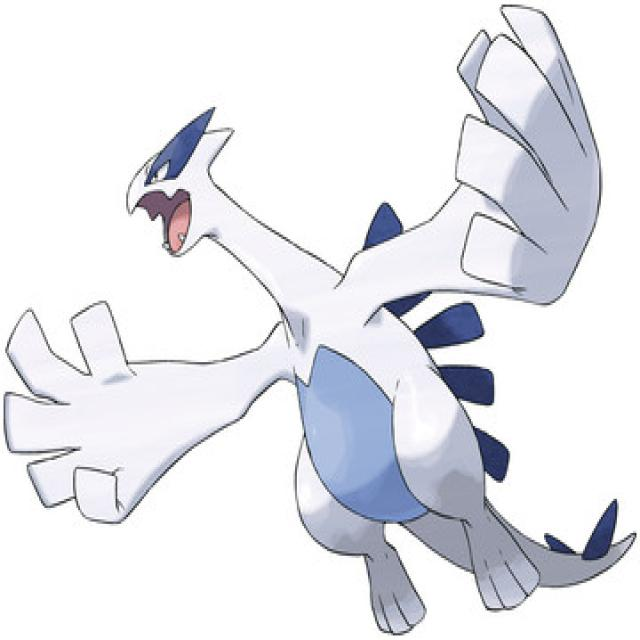Pokemon: (2, 2, 634, 633)
